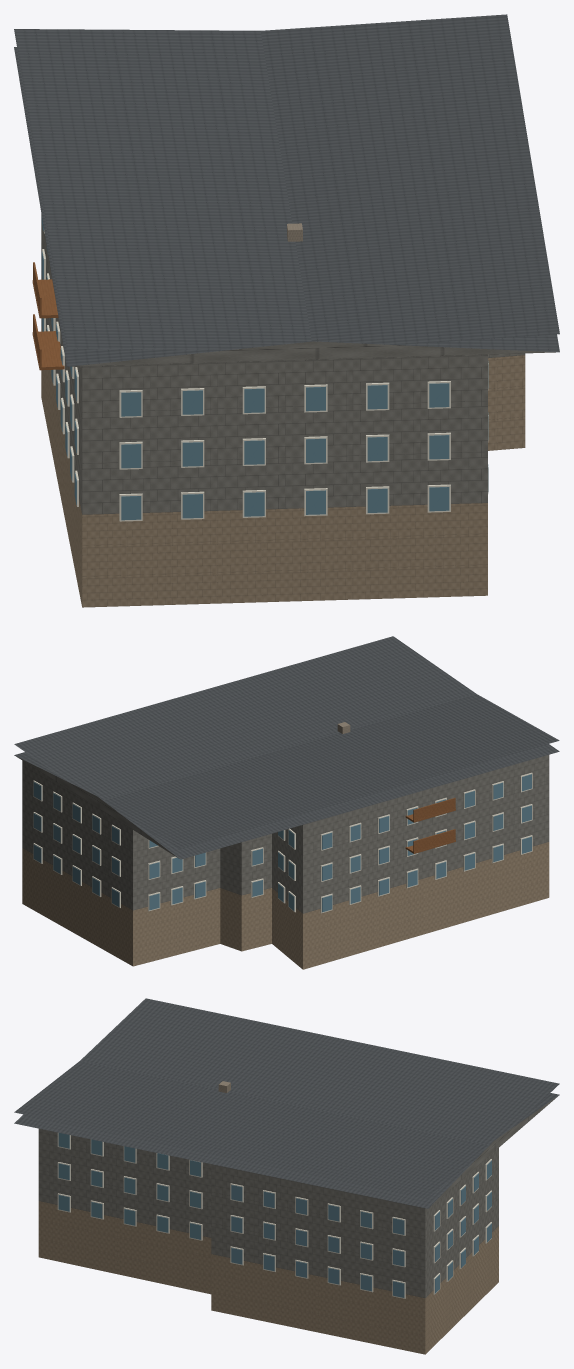
Rendered from core_0145.gltf.
3 views of the same model, one above another, from view 1: azimuth 30°, elevation 25°; view 2: azimuth 150°, elevation 25°; view 3: azimuth 270°, elevation 25° (orthographic). The views are drawn at different scales.
Parts seen in each view (by area): view 1: core_0145; view 2: core_0145; view 3: core_0145.
Part boxes in pixels (x1,y1,x2,y2): core_0145: (14, 14, 559, 607); core_0145: (14, 636, 559, 969); core_0145: (14, 998, 559, 1354).
Bounding box in the file's own units: 38.72 × 14.65 × 44.77.
Materials: 7 (7 with a texture image).
